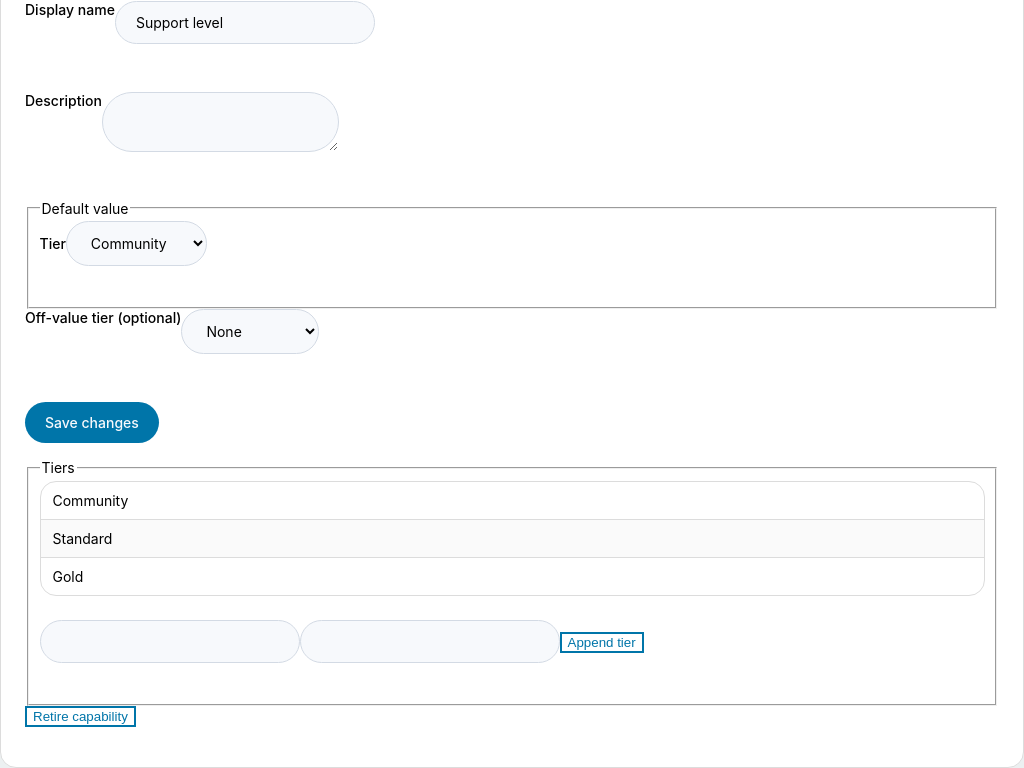
CapabilityDetailRoute › appends a tier above the current maximum ordinal, with no reordering control offered
(page scrolled)
Check: the list item "Gold" is shown, box [40, 557, 984, 595]
Type "platinum" into the field named "New tier key" at (170, 642), box [40, 620, 300, 663]
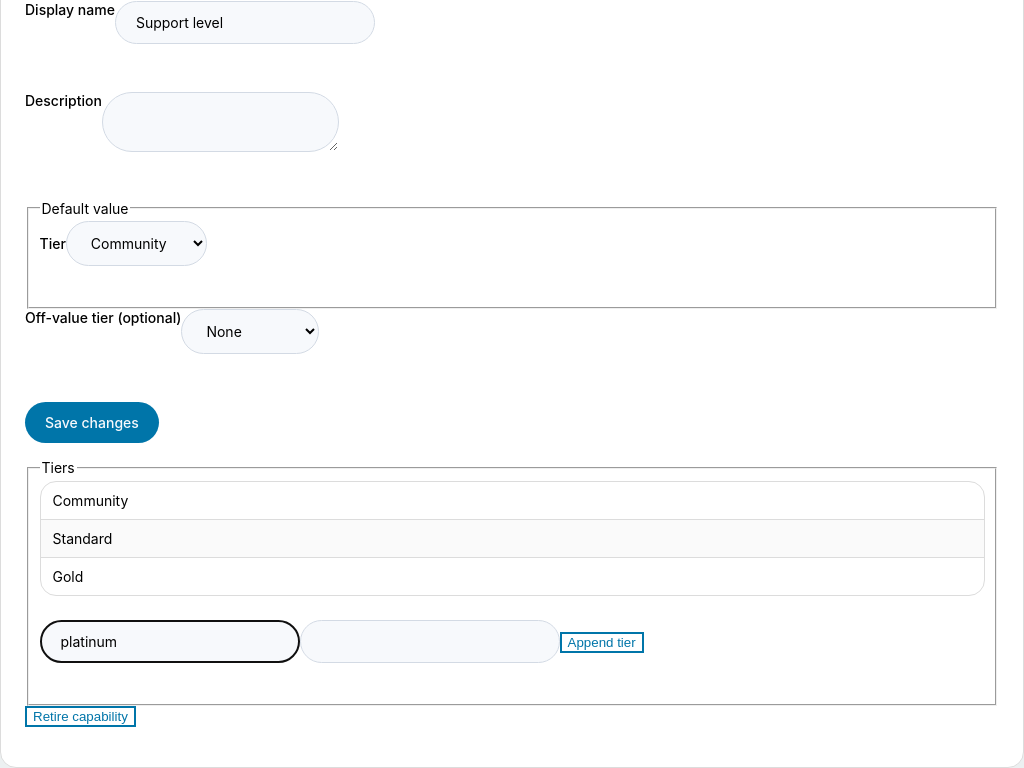
Type "Platinum" into the field named "New tier display name" at (430, 642), box [300, 620, 560, 663]
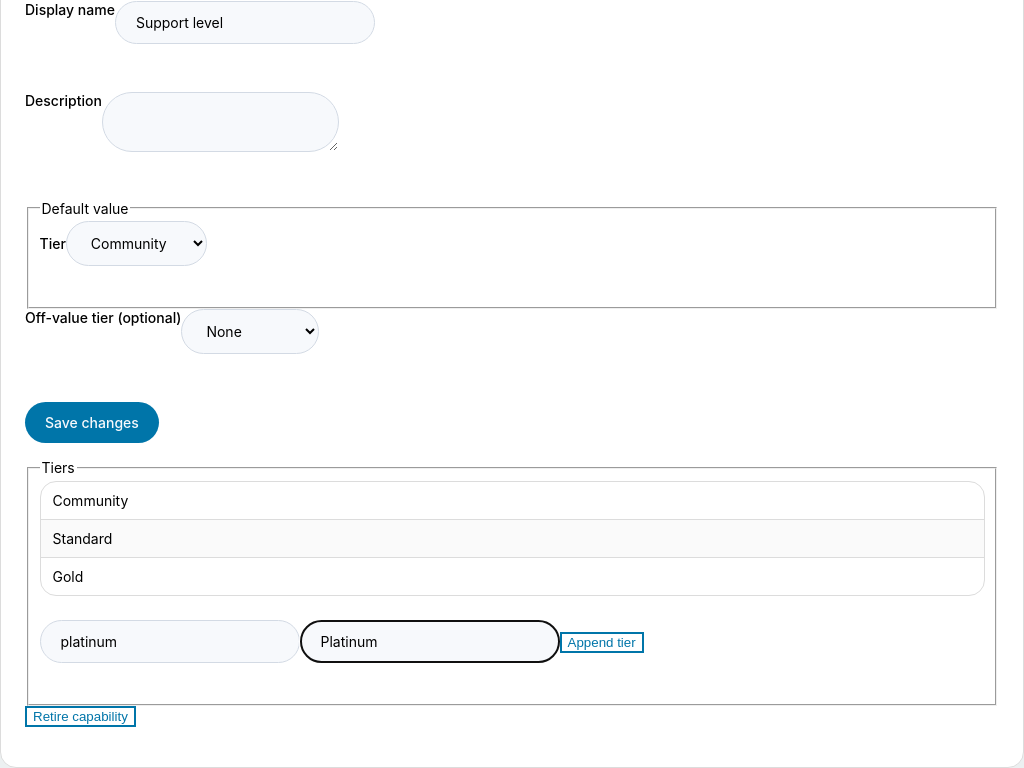
Click the button "Append tier" at (602, 643), box [560, 632, 644, 653]
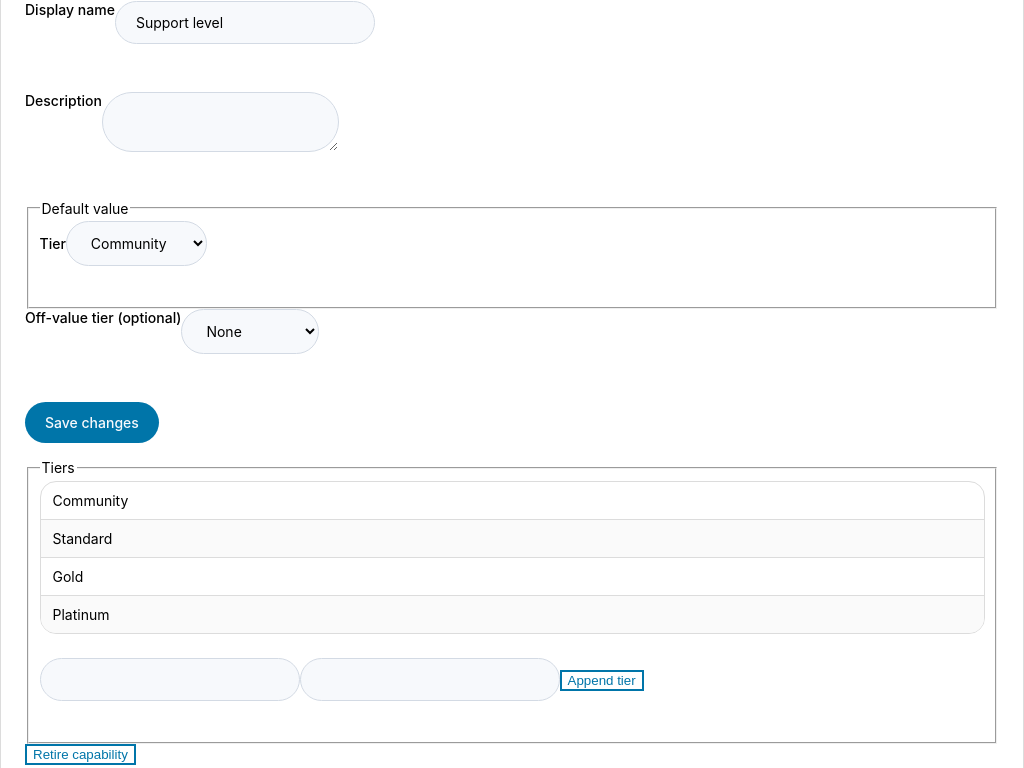
Check: the list item "Platinum" is shown, box [40, 595, 984, 633]
